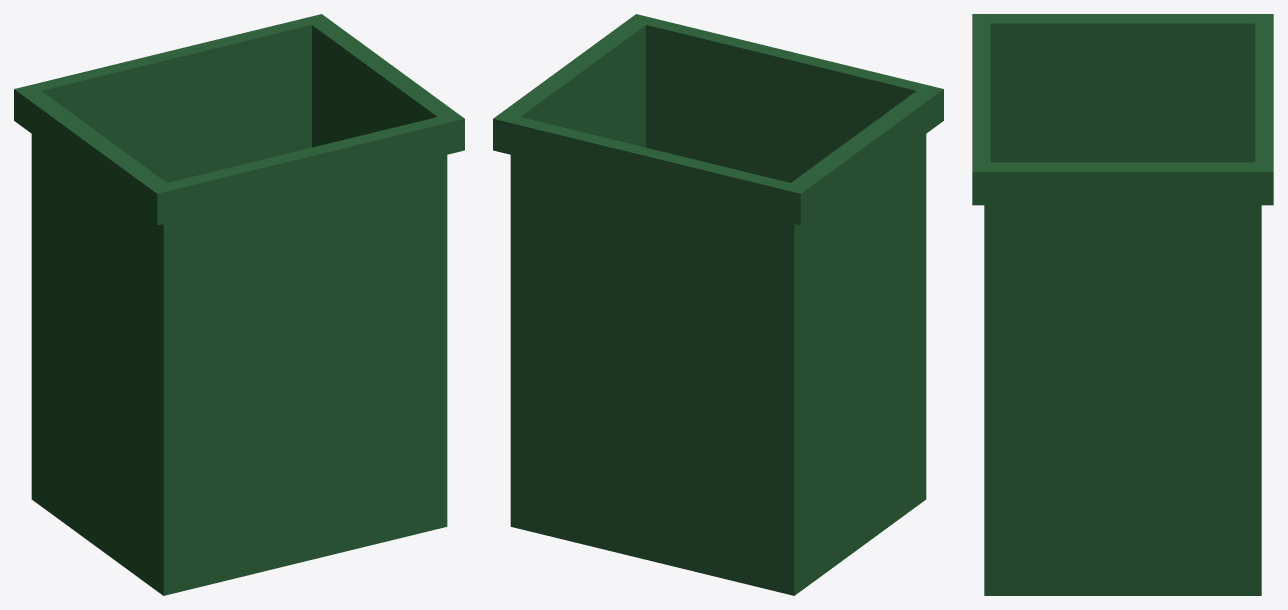
The model's file is container.fbx.
3 views of the same model, side by side, from view 1: azimuth 30°, elevation 25°; view 2: azimuth 150°, elevation 25°; view 3: azimuth 270°, elevation 25° (orthographic). The views are drawn at different scales.
Parts seen in each view (by area): view 1: container; view 2: container; view 3: container.
Boxes of the visible parts, <box> form: container: <box>14,14,464,595</box>; container: <box>493,14,943,595</box>; container: <box>972,14,1273,595</box>.
Bounding box in the file's own units: 10.38 × 13.19 × 8.36.
1 material, 1 textured.
